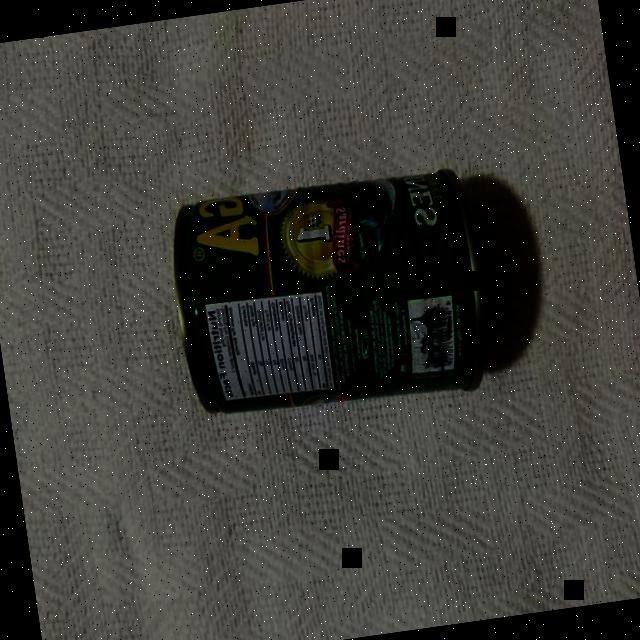can: (160, 160, 494, 429)
